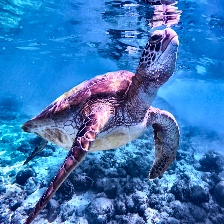seaturtle: (21, 9, 182, 194)
